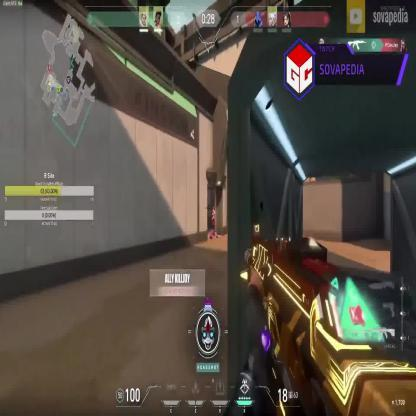enemy: (209, 206, 218, 239)
enemy_head: (212, 208, 214, 214)
